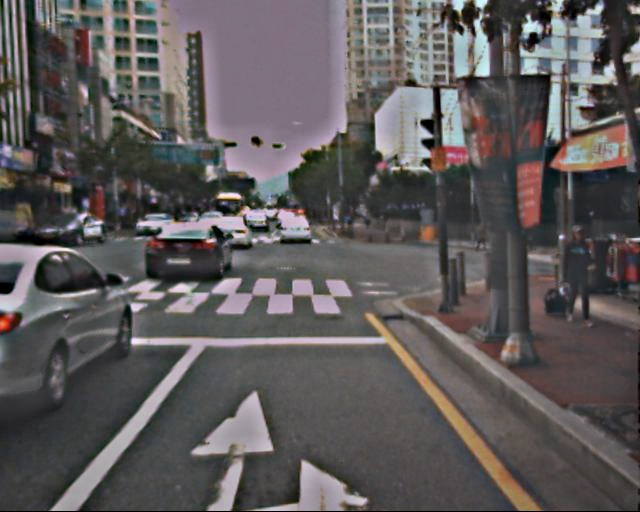person: (553, 221, 603, 330)
